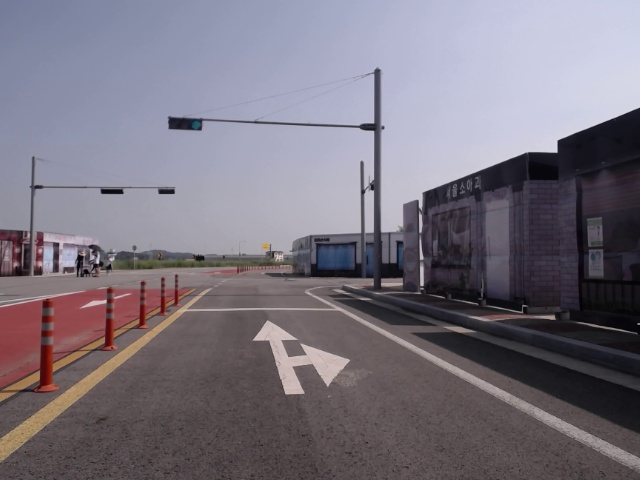green_3: (167, 117, 203, 131)
